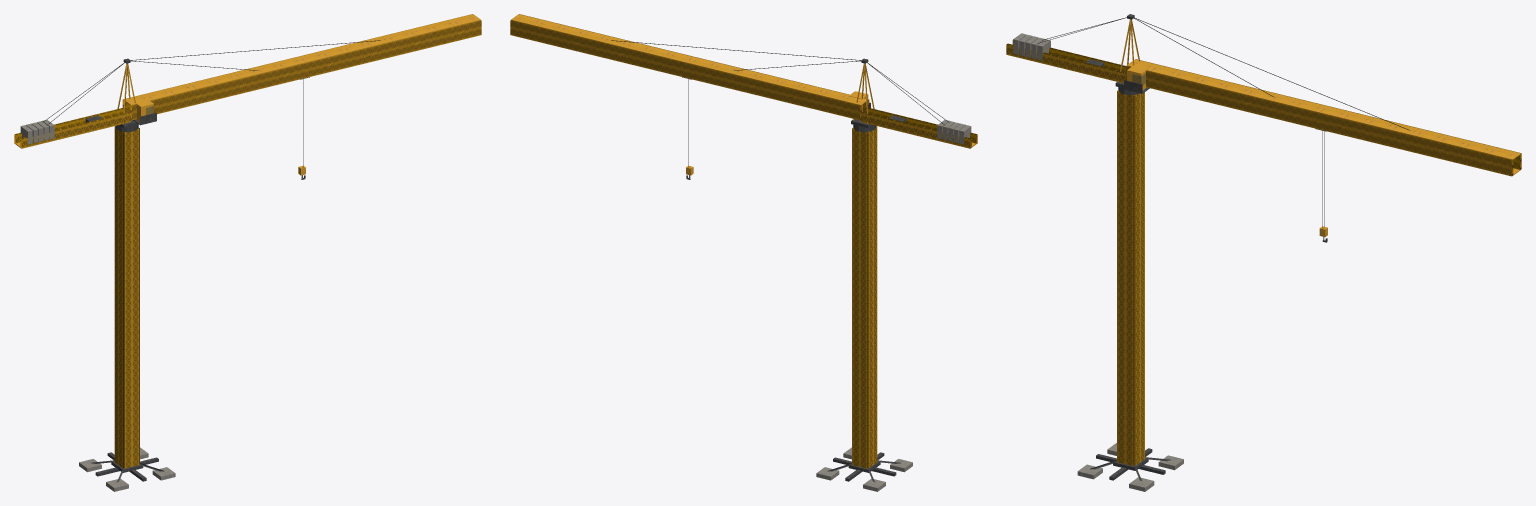
File: crane.glb
The picture shows the model from 3 angles, left to right: view 1: azimuth 30°, elevation 25°; view 2: azimuth 150°, elevation 25°; view 3: azimuth 330°, elevation 25°; orthographic projection. The views are drawn at different scales.
Visible parts, largest first — view 1: crane; view 2: crane; view 3: crane.
Part boxes in pixels (x1,y1,x2,y2): crane: [14, 14, 481, 491]; crane: [510, 14, 977, 491]; crane: [1006, 14, 1521, 491].
Bounding box in the file's own units: 63 × 53.95 × 8.4.
13 materials, 13 textured.
